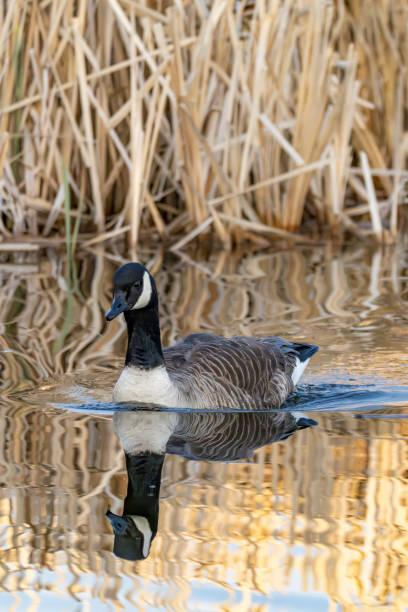Canadian-Goose: (98, 258, 320, 414)
